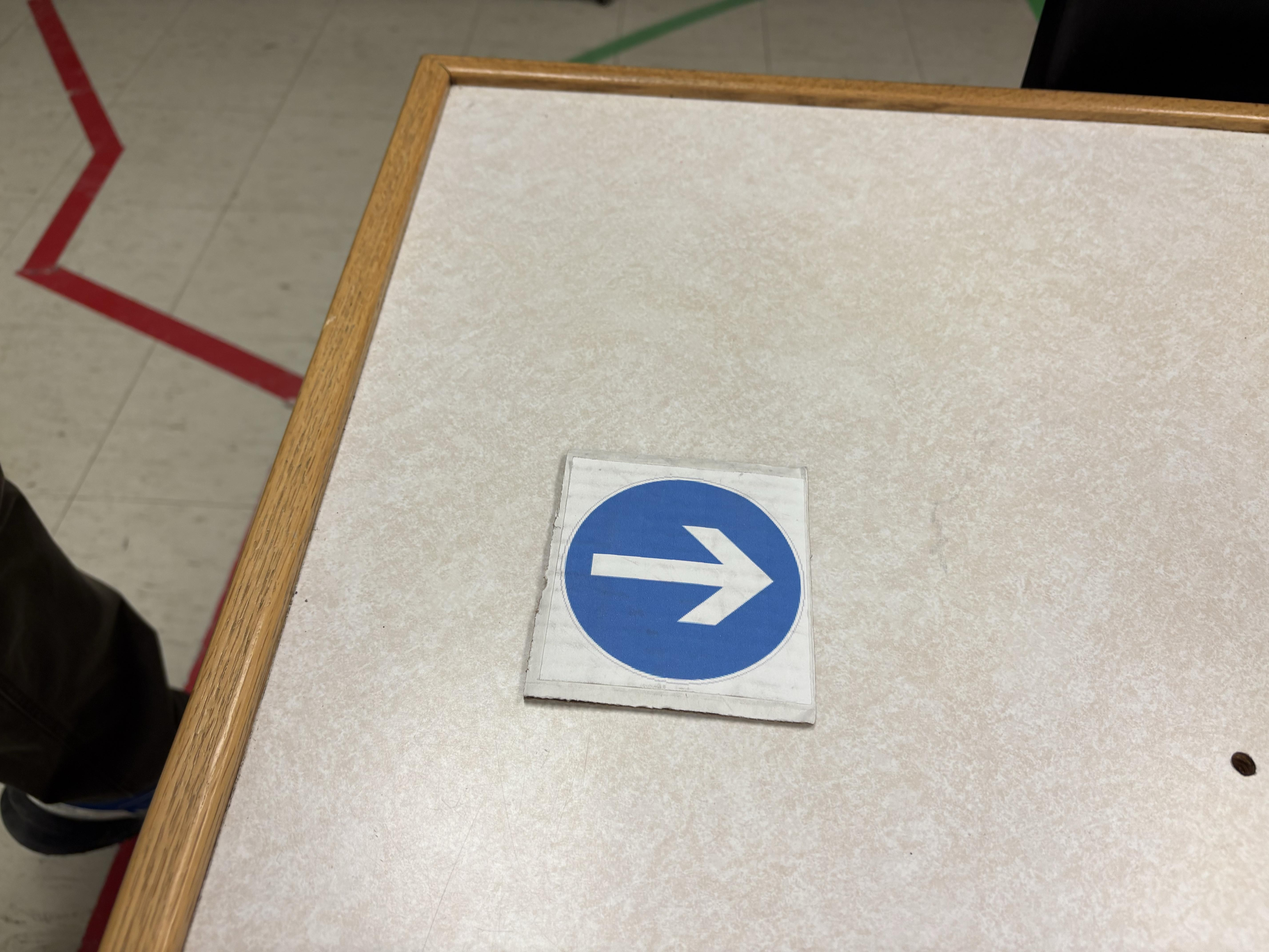Proceed Right: (518, 466, 810, 718)
